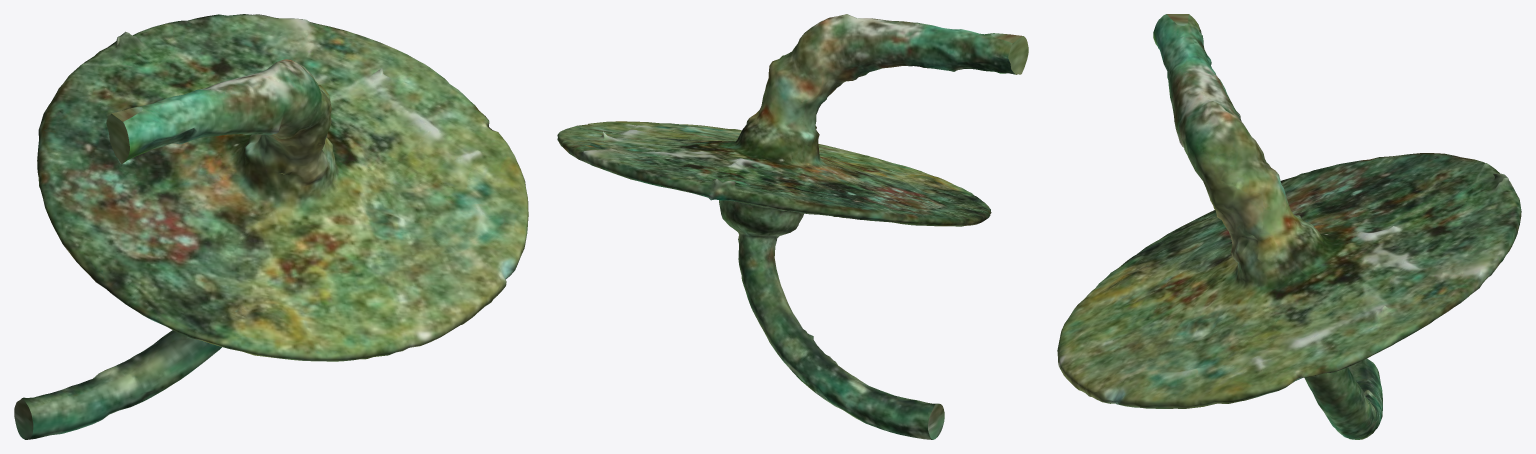
3 views of the same model, side by side, from view 1: azimuth 30°, elevation 25°; view 2: azimuth 150°, elevation 25°; view 3: azimuth 270°, elevation 25° (orthographic). The views are drawn at different scales.
Parts seen in each view (by area): view 1: Mesh_0.006; view 2: Mesh_0.006; view 3: Mesh_0.006.
Part boxes in pixels (x1,y1,x2,y2): Mesh_0.006: (14,14,528,439); Mesh_0.006: (557,14,1028,439); Mesh_0.006: (1057,14,1521,439).
Size of the model in its own units: 0.1974 by 0.1687 by 0.1847.
Materials: 1 (1 with a texture image).
